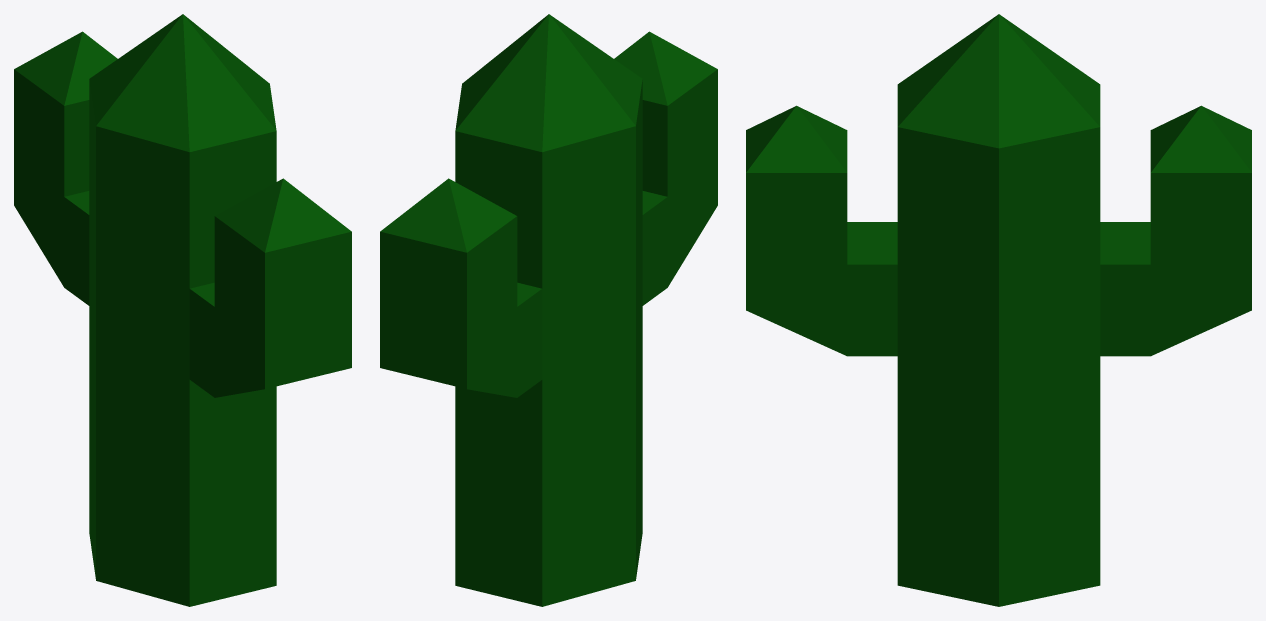
The model's file is cactus.obj.
3 renders of one model, left to right at view 1: azimuth 30°, elevation 25°; view 2: azimuth 150°, elevation 25°; view 3: azimuth 270°, elevation 25°, orthographic.
Visible parts, largest first — view 1: cactus_back; view 2: cactus_back; view 3: cactus_back.
Part boxes in pixels (left/top/right/bottom): cactus_back: left=14, top=14, right=351, bottom=606; cactus_back: left=380, top=14, right=717, bottom=606; cactus_back: left=746, top=14, right=1251, bottom=606.
Size of the model in its own units: 0.52 by 1.56 by 1.3.
